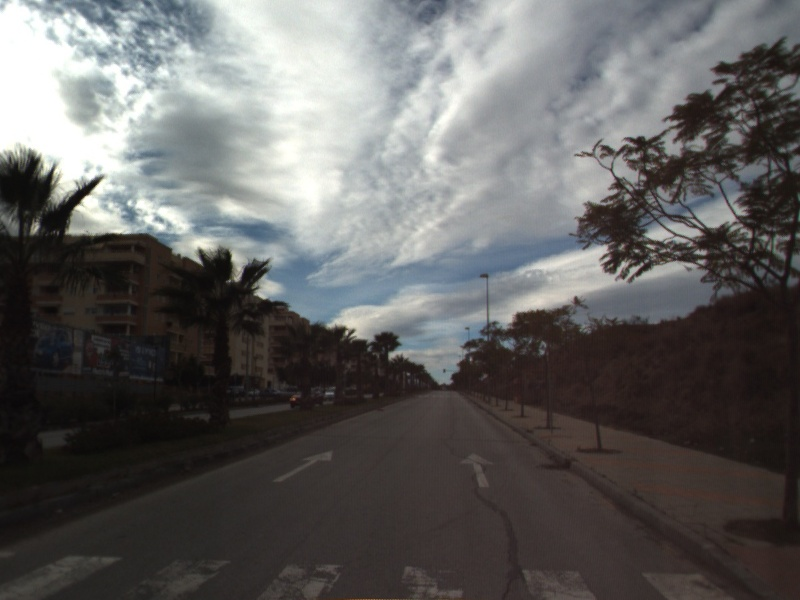STRAIGHT: (271, 448, 334, 484), (457, 451, 496, 490)
